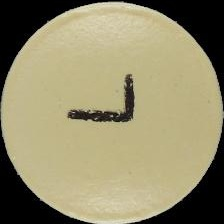50844-600: (0, 0, 224, 224)
